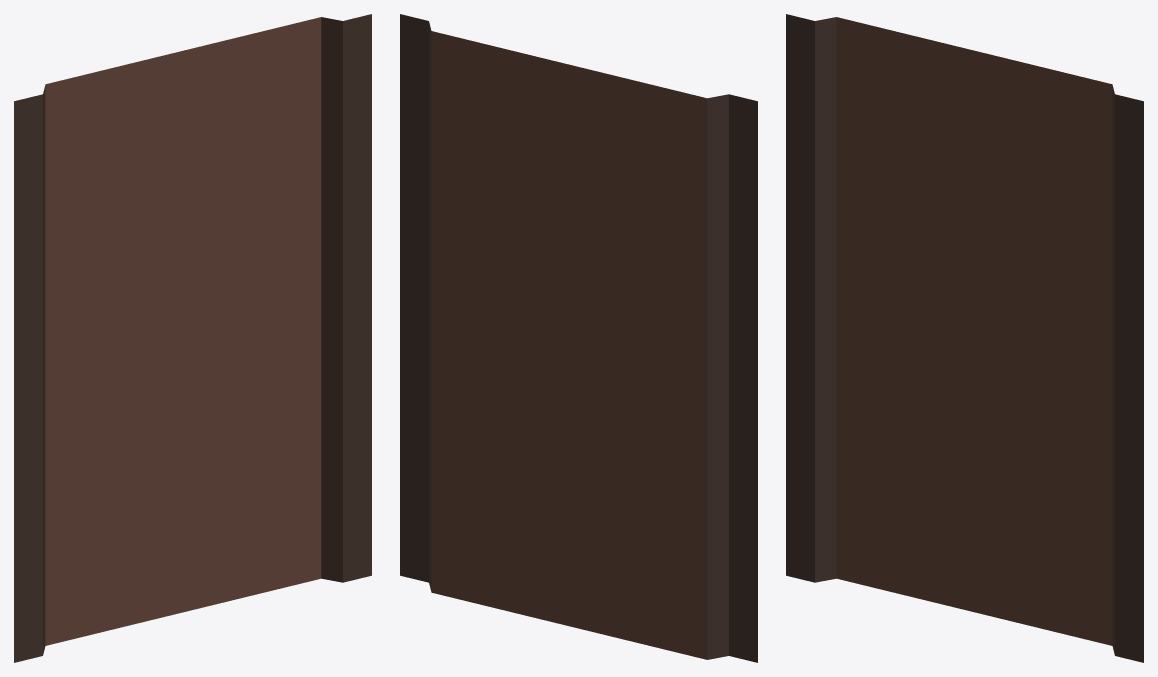
Rendered from LPHorror_2MWallF.fbx.
The picture shows the model from 3 angles, left to right: view 1: azimuth 30°, elevation 25°; view 2: azimuth 150°, elevation 25°; view 3: azimuth 330°, elevation 25°; orthographic projection.
Parts seen in each view (by area): view 1: 2MWallF; view 2: 2MWallF; view 3: 2MWallF.
Part boxes in pixels (<box>): 2MWallF: <box>14,14,371,662</box>; 2MWallF: <box>400,14,757,662</box>; 2MWallF: <box>786,14,1143,662</box>.
Size of the model in its own units: 200 by 300 by 9.25.
